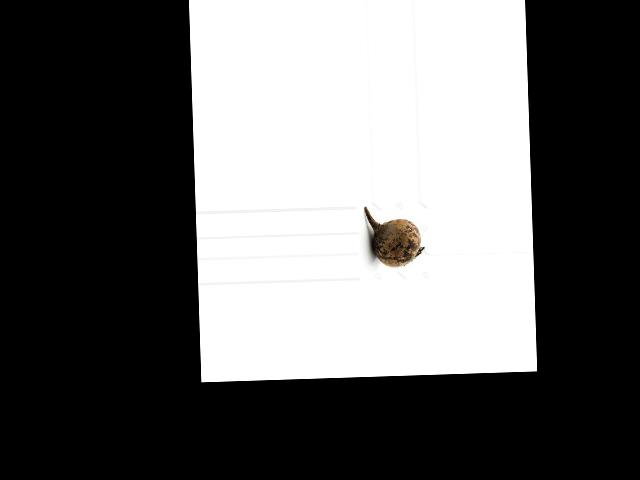beet: (364, 205, 424, 268)
